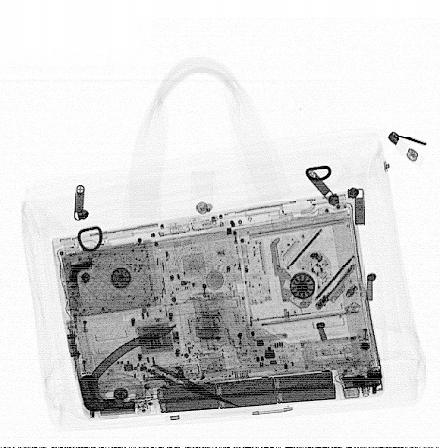Scissors: (143, 360, 244, 410)
